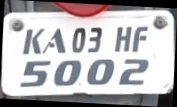character: (19, 60, 50, 87), (117, 58, 148, 85), (86, 58, 114, 86), (53, 58, 80, 86), (41, 26, 66, 54), (21, 27, 45, 55), (113, 25, 131, 52), (130, 25, 147, 52), (71, 26, 86, 54), (87, 26, 102, 52)
